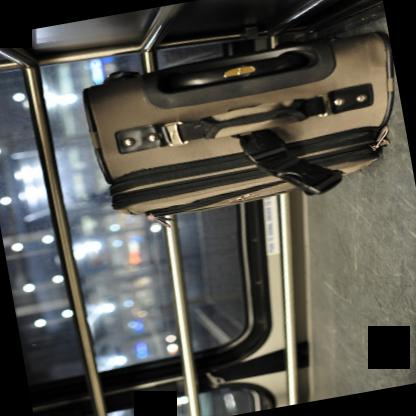suitcase: (83, 26, 393, 217)
